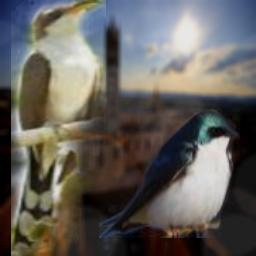Cuckoo: (11, 0, 106, 256)
Swallow: (99, 108, 240, 238)
